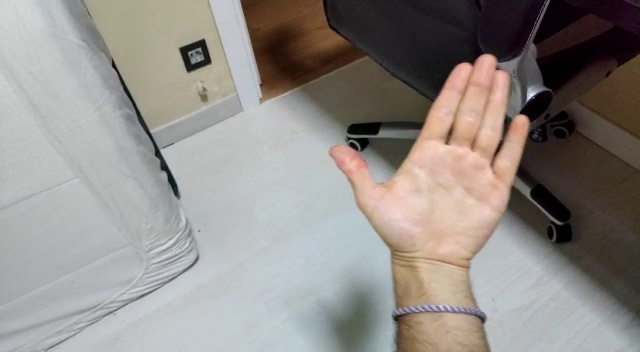Palm: (325, 51, 532, 271)
